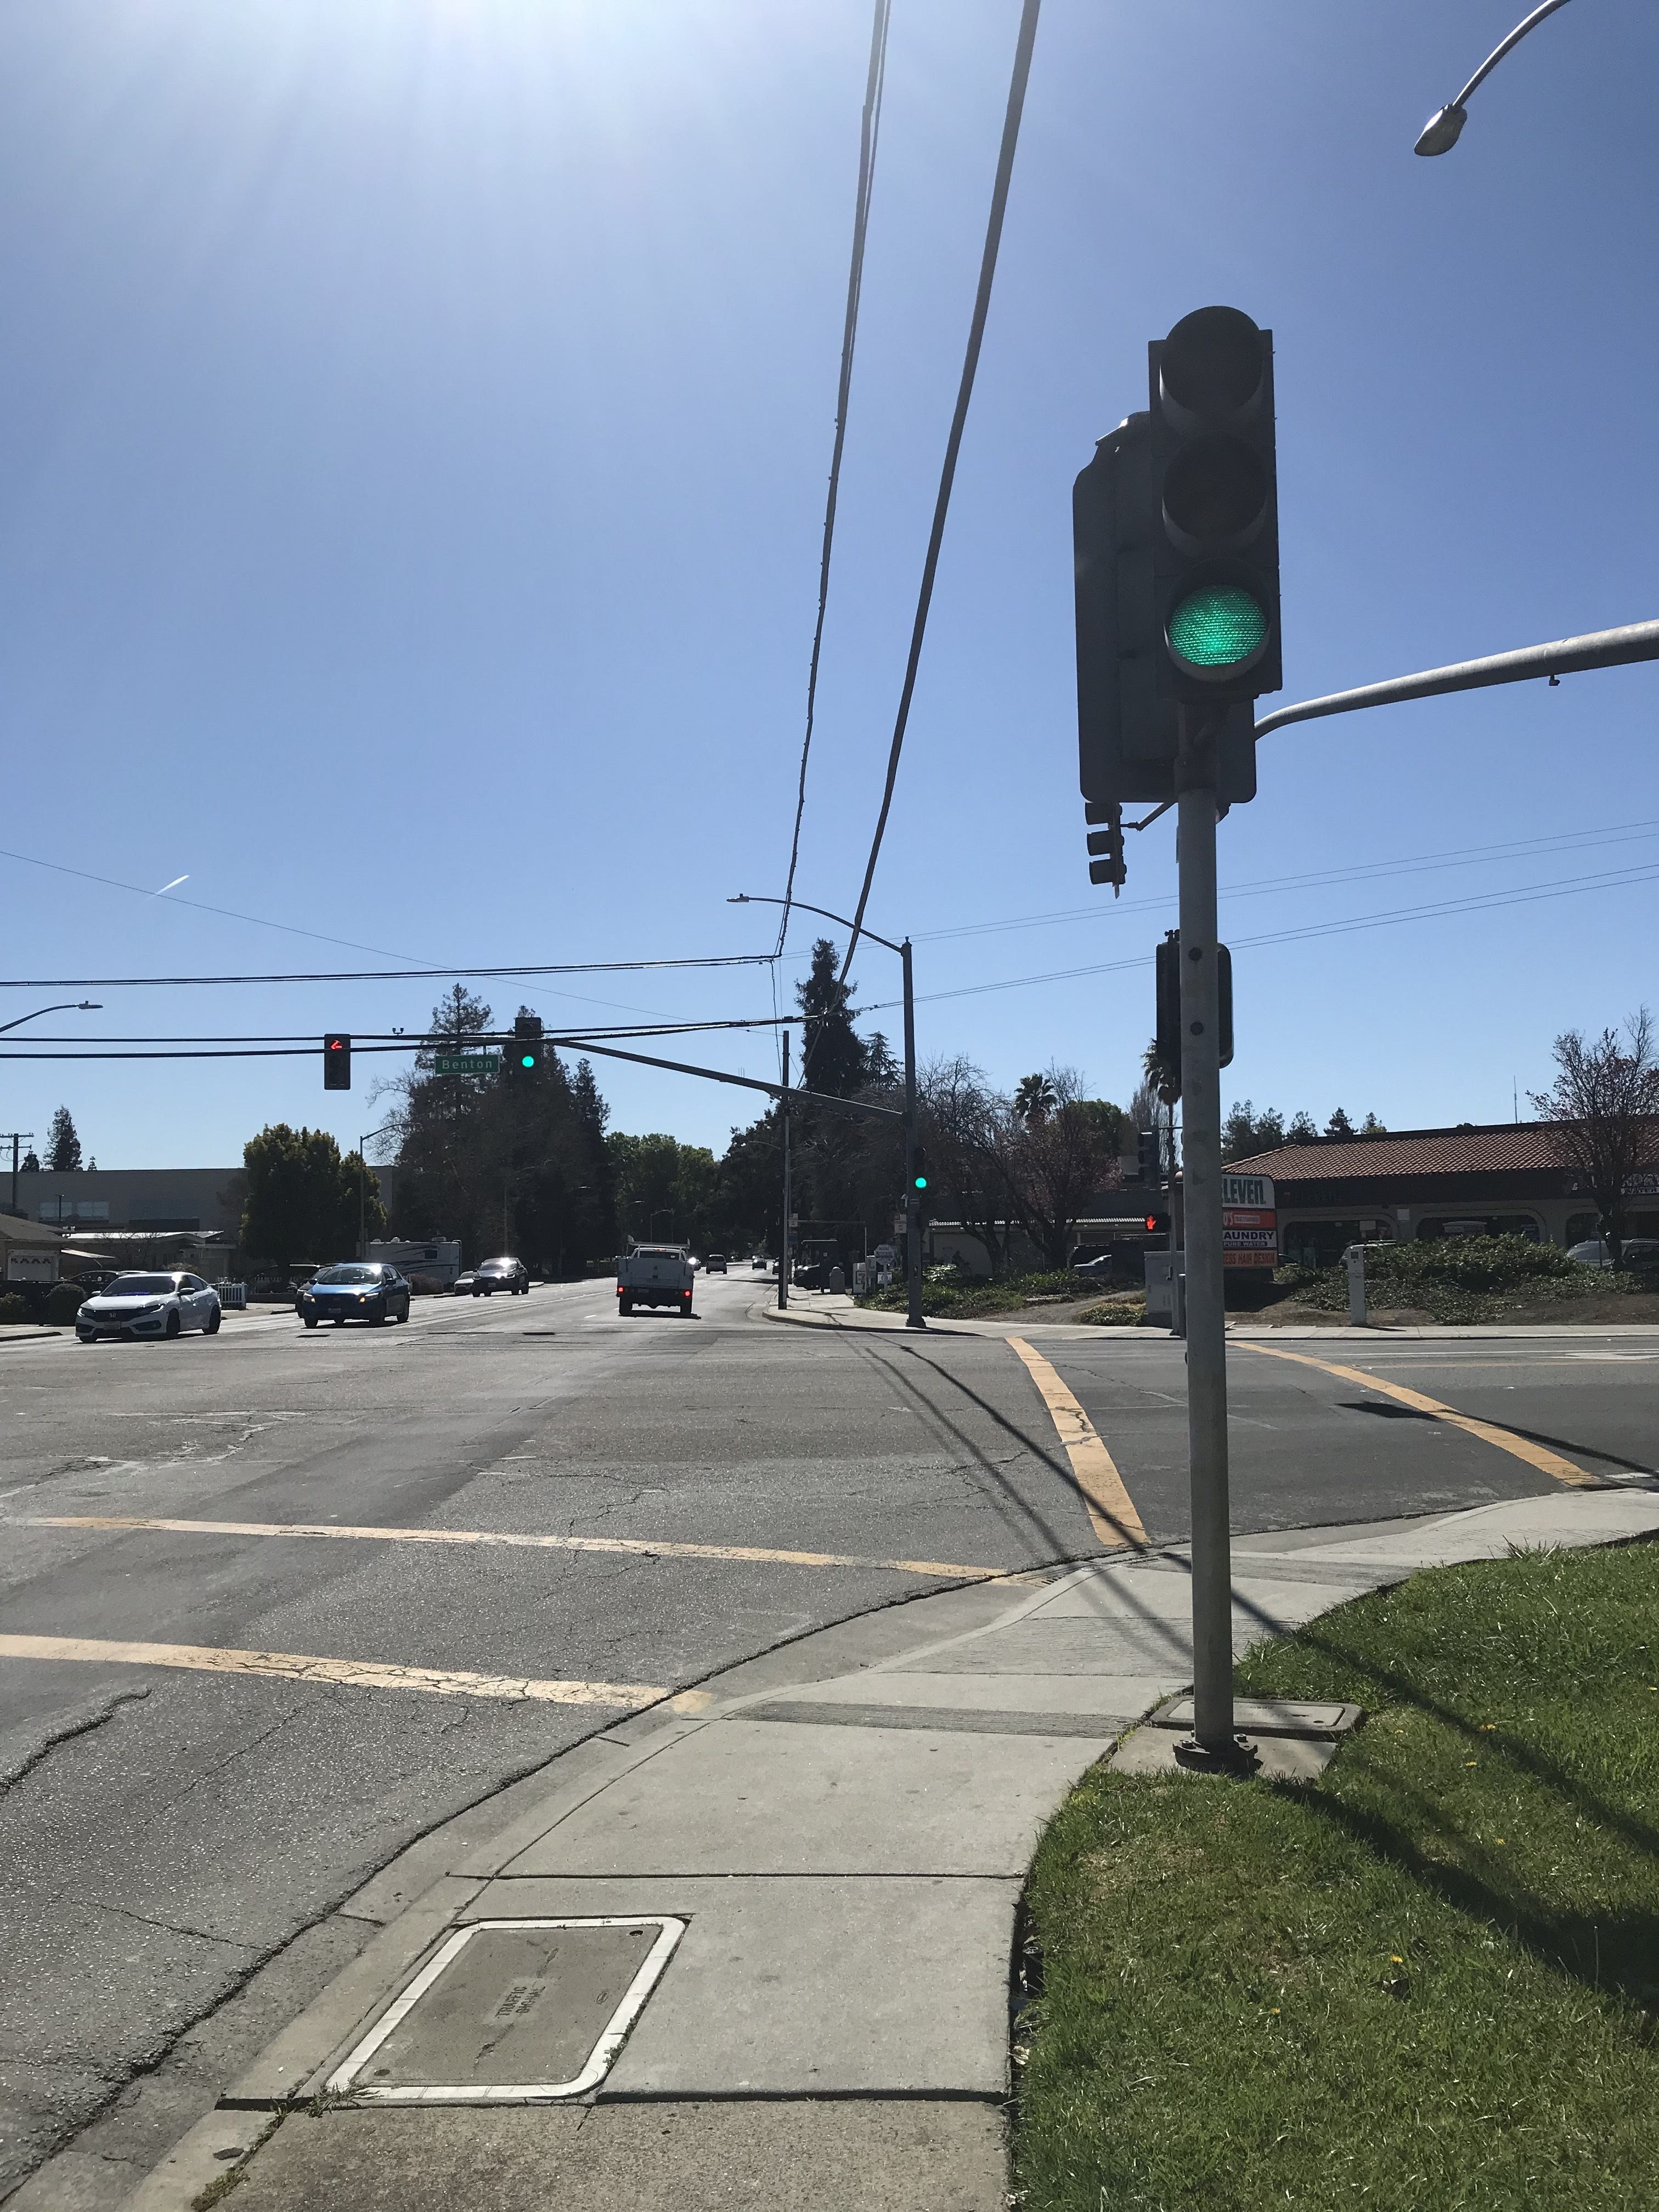green_light: (1148, 324, 1279, 686)
